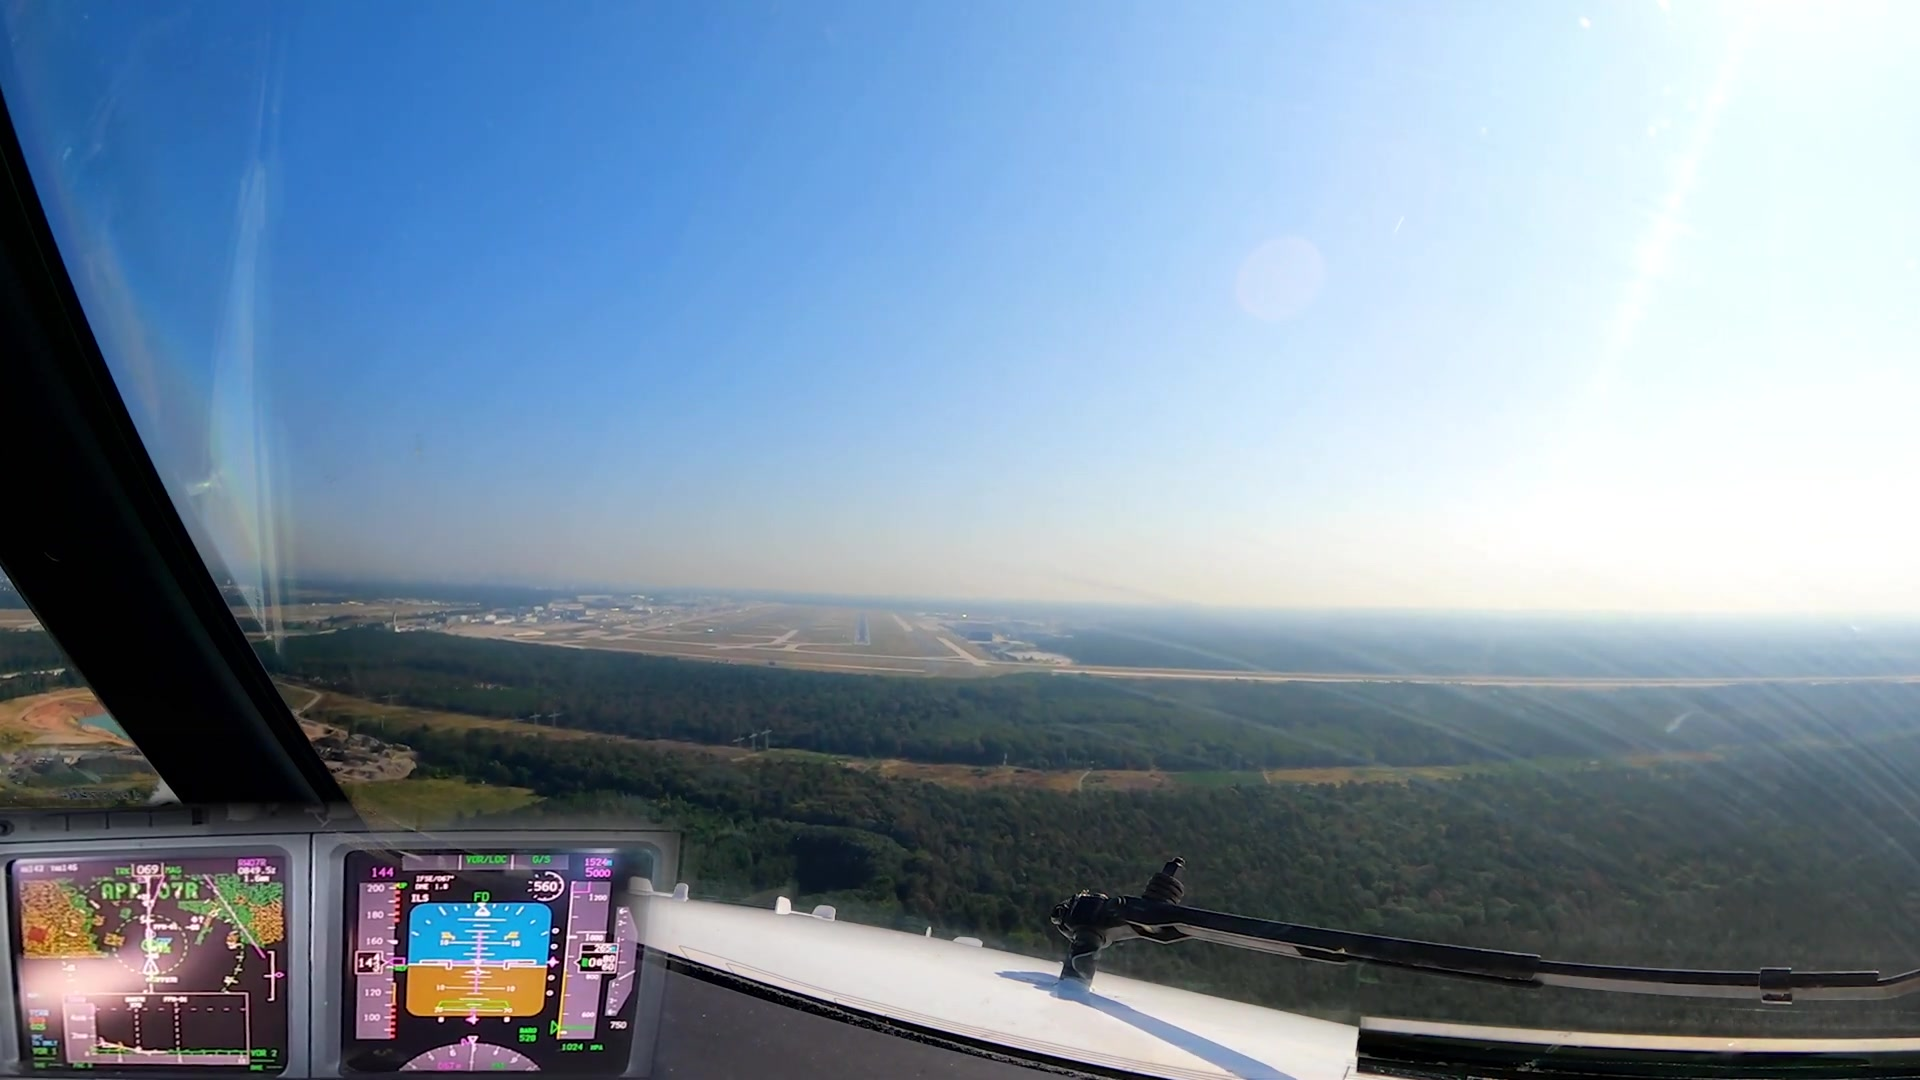runway: (852, 611, 872, 647)
